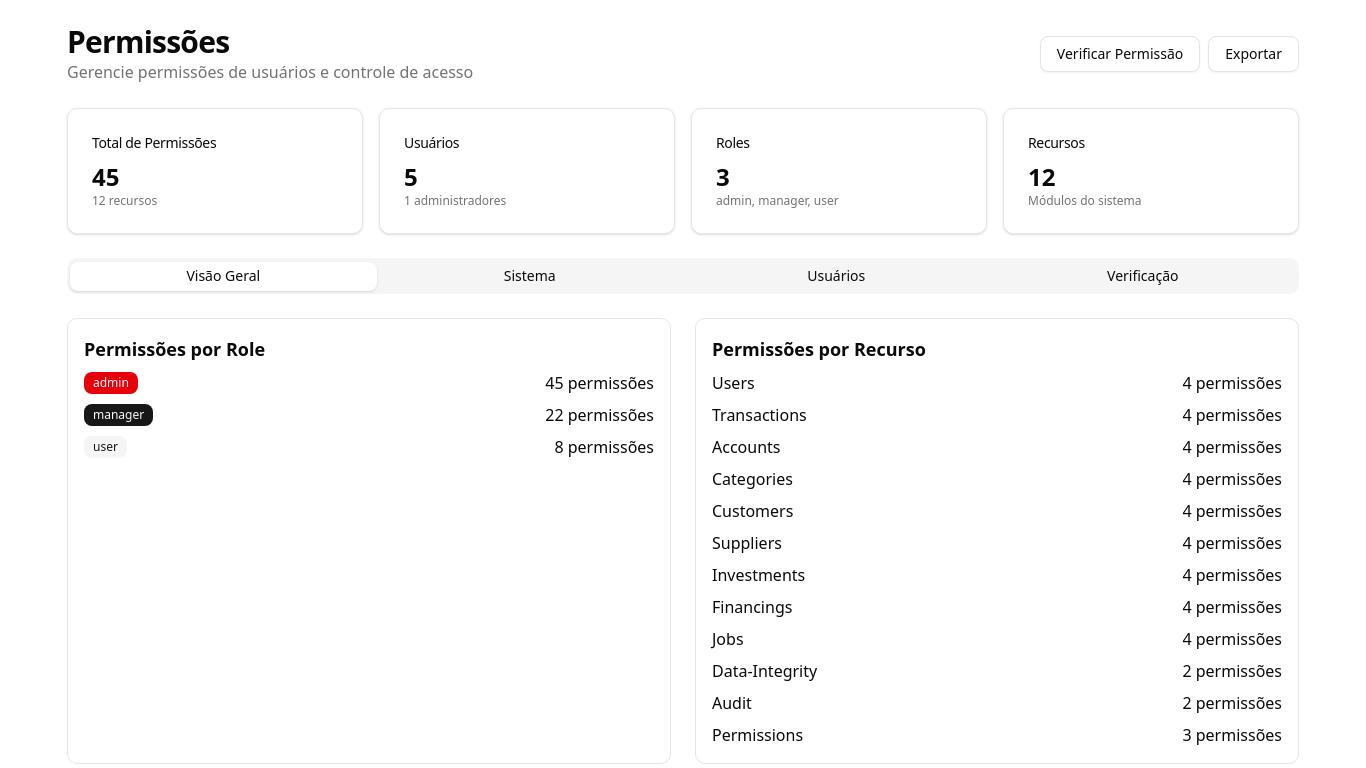
it: Permissions Page › Dialog de Verificação Rápida › deve abrir o diálogo ao clicar em Verificar Permissão
What coordinates should you click on to do the following:
click the button "Verificar Permissão"
I would click on:
 (1120, 54)
Its box is [1040, 36, 1200, 72].
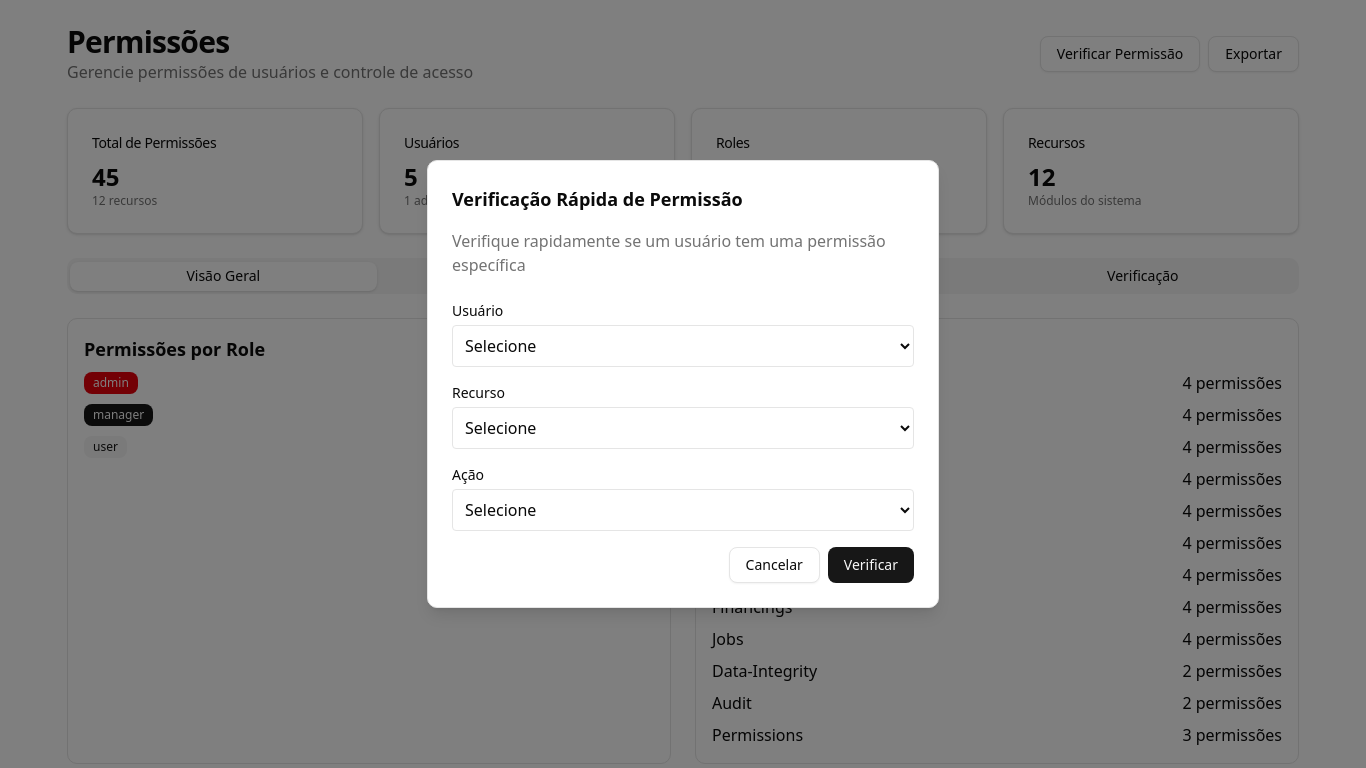
Now the heading "Verificação Rápida de Permissão" is shown, box [452, 187, 743, 211]
Now the text "Verifique rapidamente se um usuário tem uma permissão específica" is shown, box [452, 229, 914, 277]
